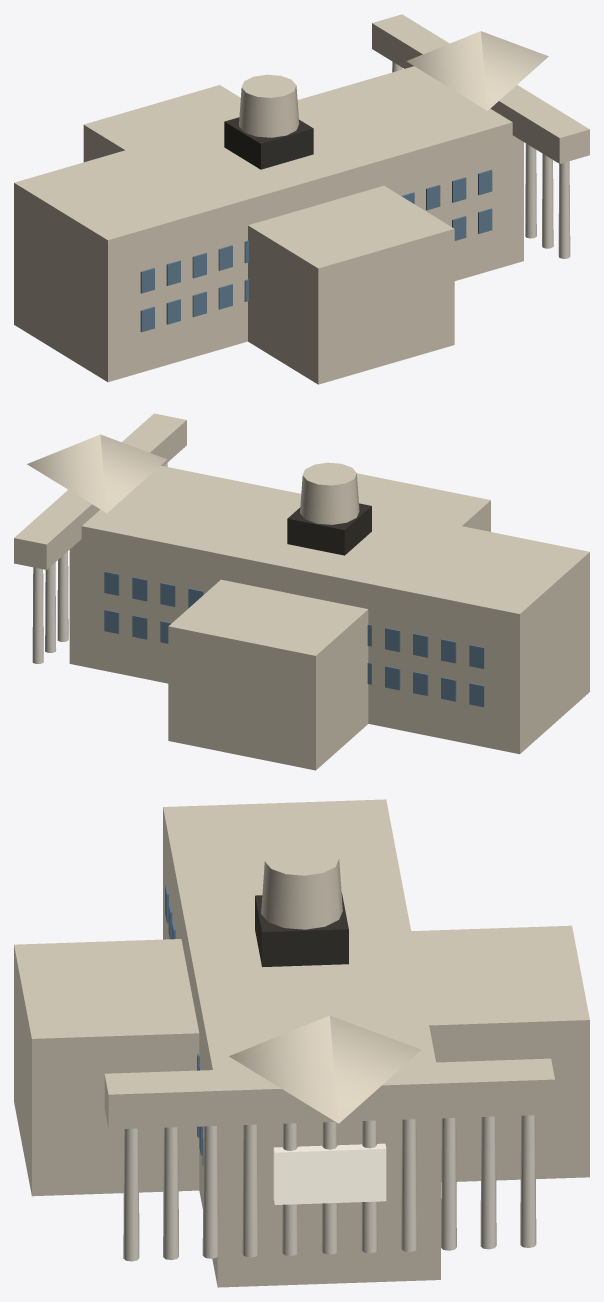
File: britishmuseum.glb
3 renders of one model, top to bottom at view 1: azimuth 30°, elevation 25°; view 2: azimuth 150°, elevation 25°; view 3: azimuth 270°, elevation 25°, orthographic. The views are drawn at different scales.
Parts seen in each view (by area): view 1: britishmuseum; view 2: britishmuseum; view 3: britishmuseum.
Part boxes in pixels (x1,y1,x2,y2): britishmuseum: (14, 14, 589, 384); britishmuseum: (14, 413, 589, 770); britishmuseum: (14, 799, 589, 1287).
Bounding box in the file's own units: 1.17 × 0.4456 × 0.8317.
